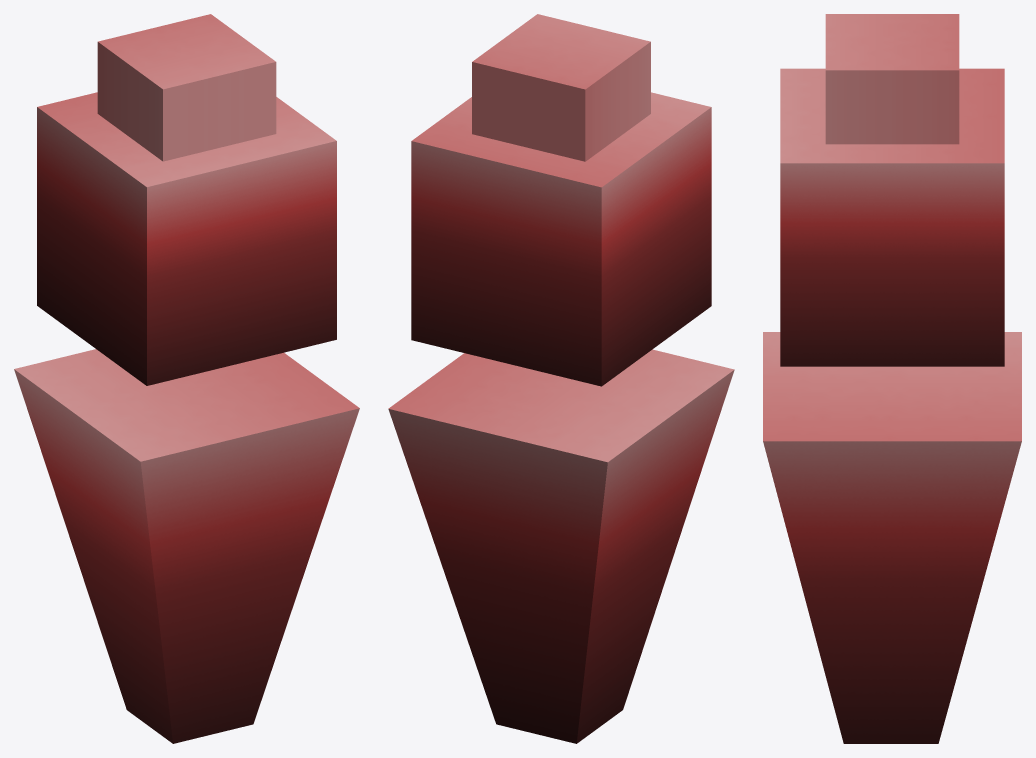
The model's file is judge_wolf.obj.
3 renders of one model, left to right at view 1: azimuth 30°, elevation 25°; view 2: azimuth 150°, elevation 25°; view 3: azimuth 270°, elevation 25°, orthographic. The views are drawn at different scales.
Visible parts, largest first — view 1: Agent; view 2: Agent; view 3: Agent.
Boxes of the visible parts, x1,y1,x2,y2 form: Agent: (14, 14, 359, 743); Agent: (388, 14, 734, 743); Agent: (763, 14, 1021, 743).
Size of the model in its own units: 0.4436 by 1.29 by 0.4436.
